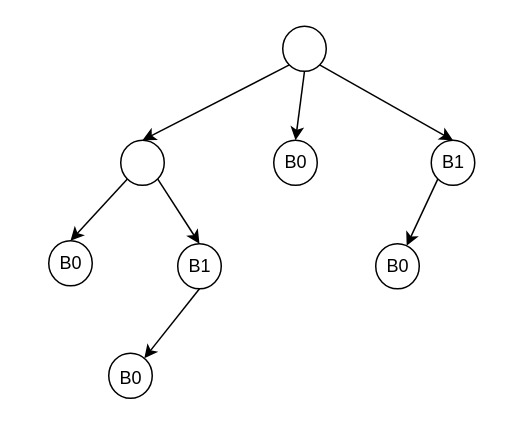
Some shapes in this 524 by 428 pixel diagram are drawn without their labels. Here are the shapes that lost their labels. From the top down, the centre of each, then its label:
At [303,48]: "B3".
At [141,162]: "B2".
